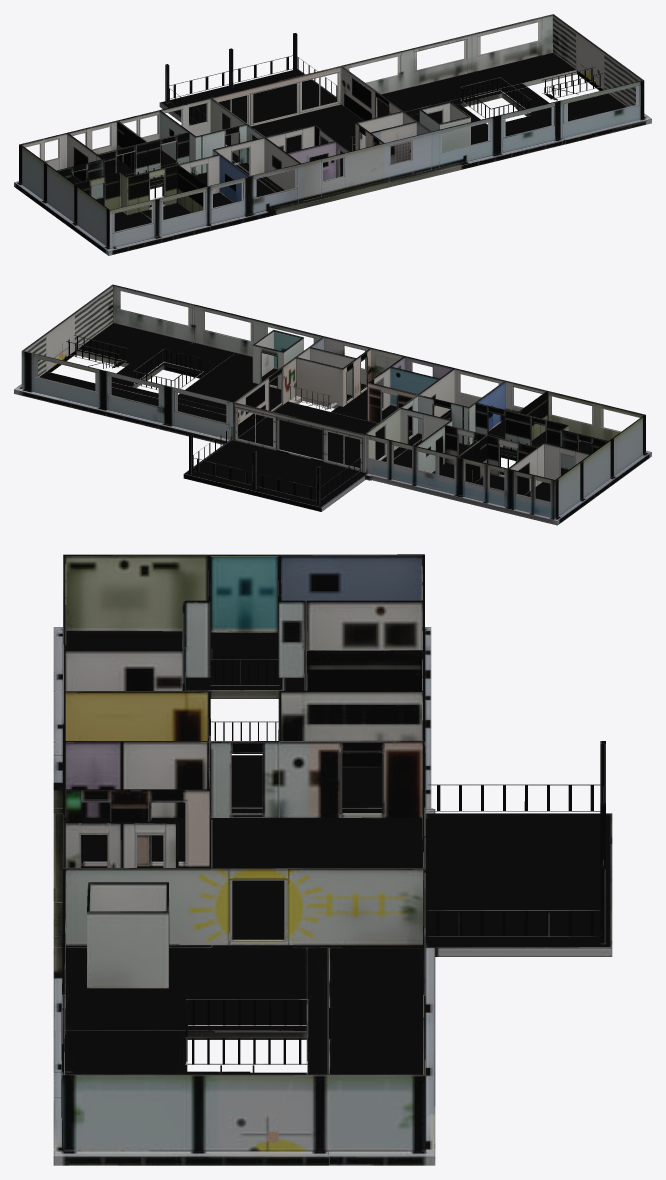
The model's file is world_shell1.glb.
3 views of the same model, one above another, from view 1: azimuth 30°, elevation 25°; view 2: azimuth 150°, elevation 25°; view 3: azimuth 270°, elevation 25° (orthographic). The views are drawn at different scales.
Parts seen in each view (by area): view 1: W_shell1; view 2: W_shell1; view 3: W_shell1.
Boxes of the visible parts, x1=… form: W_shell1: x1=14, y1=14, x2=651, y2=255; W_shell1: x1=14, y1=284, x2=651, y2=525; W_shell1: x1=53, y1=554, x2=612, y2=1165.
Size of the model in its own units: 38.22 by 2.99 by 17.04.
1 material, 1 textured.
